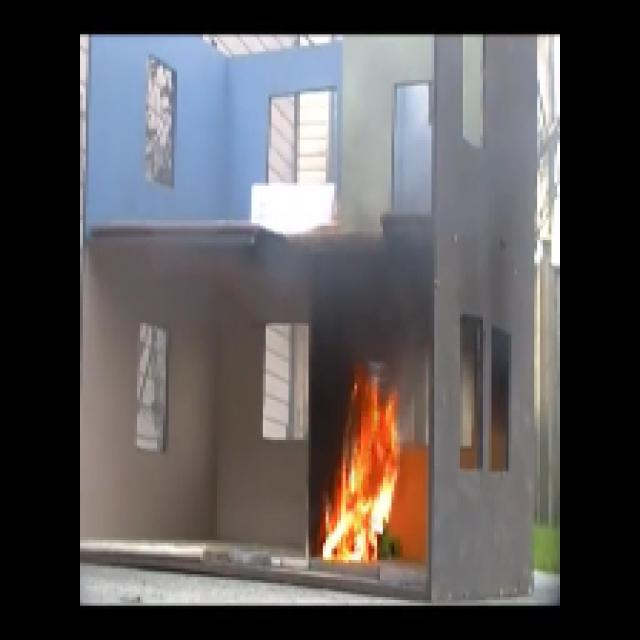fire: (334, 395, 389, 560)
smoke: (307, 240, 412, 337)
